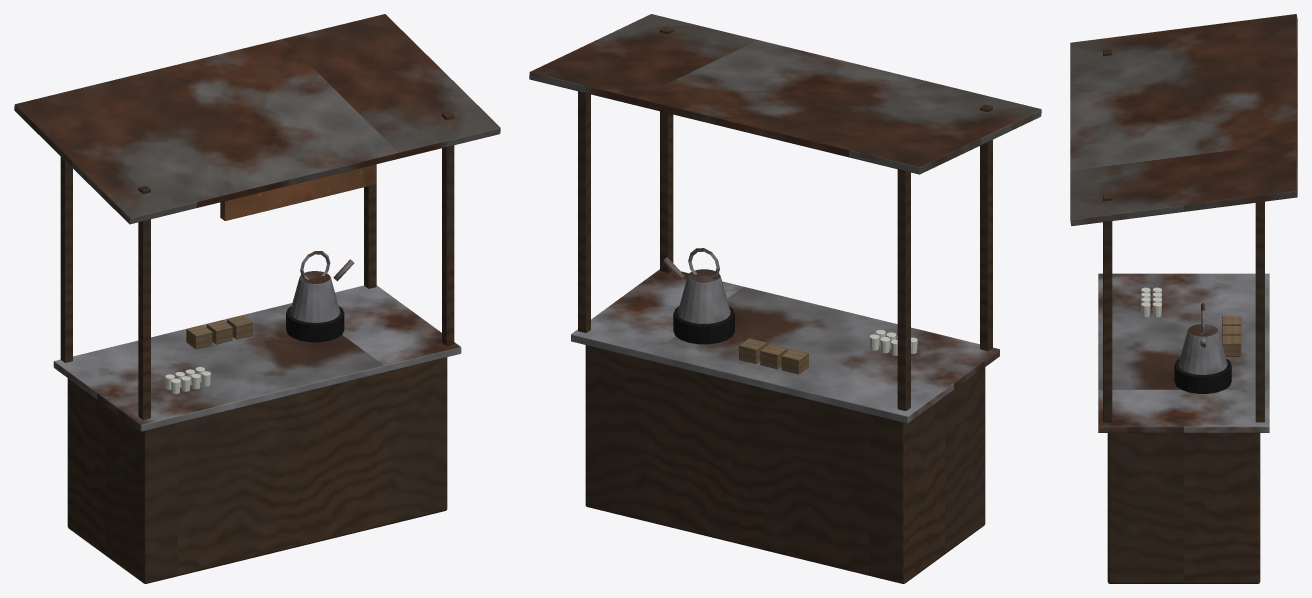
The model's file is W07_chai_stall.glb.
The picture shows the model from 3 angles, left to right: view 1: azimuth 30°, elevation 25°; view 2: azimuth 150°, elevation 25°; view 3: azimuth 270°, elevation 25°; orthographic projection. The views are drawn at different scales.
Parts seen in each view (by area): view 1: W07_chai_stall; view 2: W07_chai_stall; view 3: W07_chai_stall.
Boxes of the visible parts, left/top/right/bottom form: W07_chai_stall: left=14, top=14, right=500, bottom=583; W07_chai_stall: left=529, top=14, right=1041, bottom=583; W07_chai_stall: left=1070, top=14, right=1297, bottom=583.
Bounding box in the file's own units: 2.32 × 2.5 × 1.26.
Materials: 7 (7 with a texture image).
